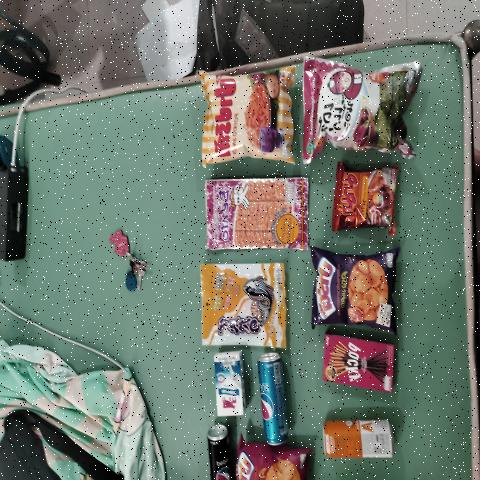bento_red: (210, 184, 304, 241)
mama: (342, 169, 388, 220)
paprika: (206, 72, 286, 161)
party_purple: (318, 258, 390, 325)
party_red: (237, 447, 304, 480)
pepsi_black: (208, 429, 230, 480)
pepsi_blue: (262, 352, 280, 450)
pokki: (322, 338, 396, 394)
singha_yellow: (320, 416, 391, 461)
taokaenoi: (308, 73, 408, 142)
taro_yellow: (203, 269, 283, 341)
thai_denmark: (217, 352, 243, 416)
